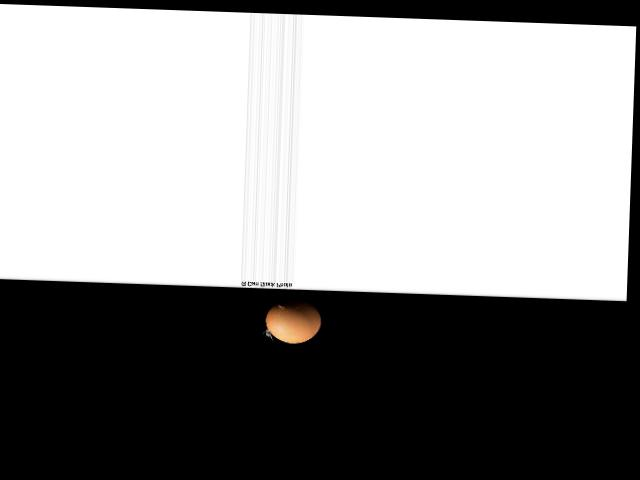egg: (265, 297, 322, 343)
